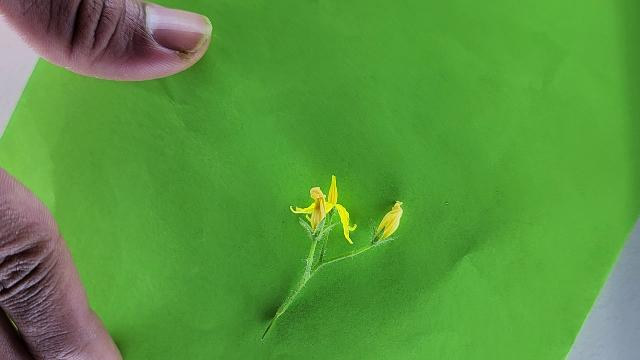Anthesis: (289, 175, 357, 245), (373, 200, 405, 244)
